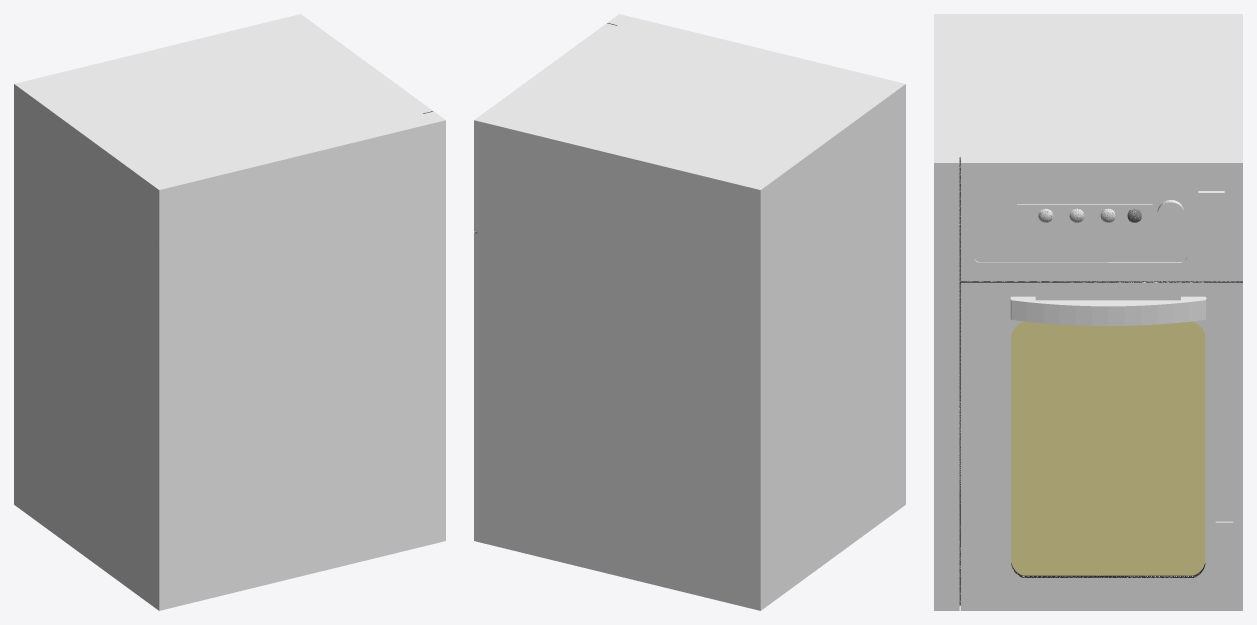
3 views of the same model, side by side, from view 1: azimuth 30°, elevation 25°; view 2: azimuth 150°, elevation 25°; view 3: azimuth 270°, elevation 25° (orthographic). The views are drawn at different scales.
Visible parts, largest first — view 1: microwave deluxe; view 2: microwave deluxe; view 3: microwave deluxe.
Boxes of the visible parts, box(x1,y1,x2,y2) form: microwave deluxe: box(14, 14, 445, 610); microwave deluxe: box(474, 14, 905, 610); microwave deluxe: box(934, 14, 1242, 610).
Size of the model in its own units: 21.28 by 28 by 17.5.
